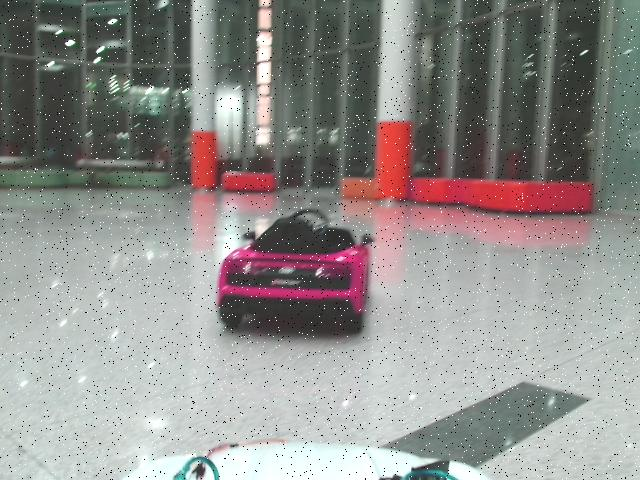car: (217, 209, 374, 334)
